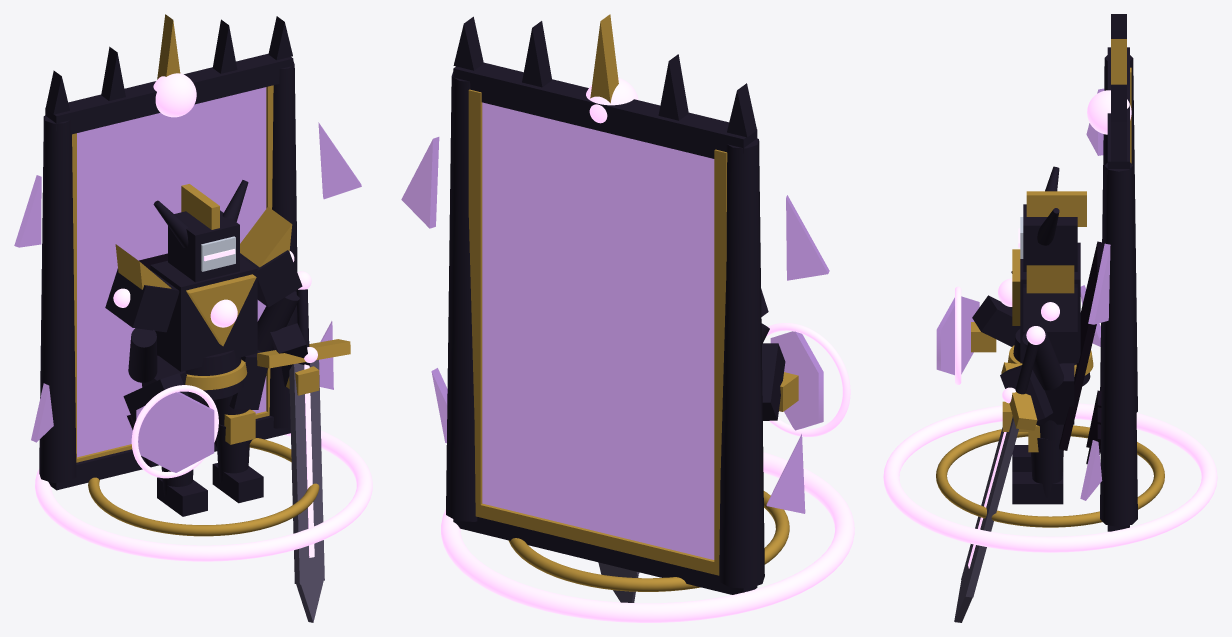
The model's file is jefe_espejo_sombrio.glb.
The picture shows the model from 3 angles, left to right: view 1: azimuth 30°, elevation 25°; view 2: azimuth 150°, elevation 25°; view 3: azimuth 270°, elevation 25°; orthographic projection. The views are drawn at different scales.
Parts seen in each view (by area): view 1: SuperficieEspejo, _MeshInstance3D_5, _MeshInstance3D_71, _MeshInstance3D_19, _MeshInstance3D_7, _MeshInstance3D_6, _MeshInstance3D_44, _MeshInstance3D_54, _MeshInstance3D_72, _MeshInstance3D_26, _MeshInstance3D_33, _MeshInstance3D_14 (+37 smaller); view 2: SuperficieEspejo, _MeshInstance3D_5, _MeshInstance3D_71, _MeshInstance3D_6, _MeshInstance3D_7, _MeshInstance3D_3, _MeshInstance3D_14, _MeshInstance3D_2, _MeshInstance3D_72, _MeshInstance3D_4, _MeshInstance3D_44, _MeshInstance3D_15 (+12 smaller); view 3: _MeshInstance3D_6, _MeshInstance3D_71, _MeshInstance3D_72, _MeshInstance3D_26, _MeshInstance3D_54, _MeshInstance3D_67, _MeshInstance3D_44, _MeshInstance3D_37, _MeshInstance3D_19, _MeshInstance3D_29, _MeshInstance3D_5, _MeshInstance3D_42 (+20 smaller).
Part boxes in pixels (box(x1,y1,x2,y2)): SuperficieEspejo: box(77, 87, 266, 457); _MeshInstance3D_5: box(39, 115, 76, 482); _MeshInstance3D_71: box(35, 430, 372, 561); _MeshInstance3D_19: box(150, 256, 257, 371); _MeshInstance3D_7: box(45, 53, 293, 134); _MeshInstance3D_6: box(269, 61, 297, 428); _MeshInstance3D_44: box(136, 392, 214, 472); _MeshInstance3D_54: box(289, 359, 324, 584); _MeshInstance3D_72: box(88, 438, 319, 536); _MeshInstance3D_26: box(168, 210, 239, 282); _MeshInstance3D_33: box(105, 268, 179, 332); _MeshInstance3D_14: box(48, 415, 290, 490); SuperficieEspejo: box(482, 102, 714, 559); _MeshInstance3D_5: box(719, 138, 764, 588); _MeshInstance3D_71: box(441, 452, 854, 622); _MeshInstance3D_6: box(446, 72, 477, 521); _MeshInstance3D_7: box(453, 62, 757, 158); _MeshInstance3D_3: box(468, 89, 482, 514); _MeshInstance3D_14: box(453, 517, 757, 594); _MeshInstance3D_2: box(714, 149, 727, 572); _MeshInstance3D_72: box(508, 491, 789, 591); _MeshInstance3D_4: box(475, 503, 719, 575); _MeshInstance3D_44: box(770, 331, 823, 430); _MeshInstance3D_15: box(786, 195, 829, 280); _MeshInstance3D_6: box(1100, 162, 1137, 526); _MeshInstance3D_71: box(883, 403, 1217, 552); _MeshInstance3D_72: box(936, 425, 1164, 527); _MeshInstance3D_26: box(1023, 204, 1077, 271); _MeshInstance3D_54: box(961, 416, 1018, 597); _MeshInstance3D_67: box(1059, 241, 1103, 450); _MeshInstance3D_44: box(936, 296, 979, 375); _MeshInstance3D_37: box(1023, 284, 1077, 331); _MeshInstance3D_19: box(1020, 242, 1080, 363); _MeshInstance3D_29: box(1026, 191, 1086, 226); _MeshInstance3D_5: box(1100, 55, 1137, 412); _MeshInstance3D_42: box(972, 295, 1020, 346).
Bounding box in the file's own units: 2.5 × 3.85 × 2.1.
